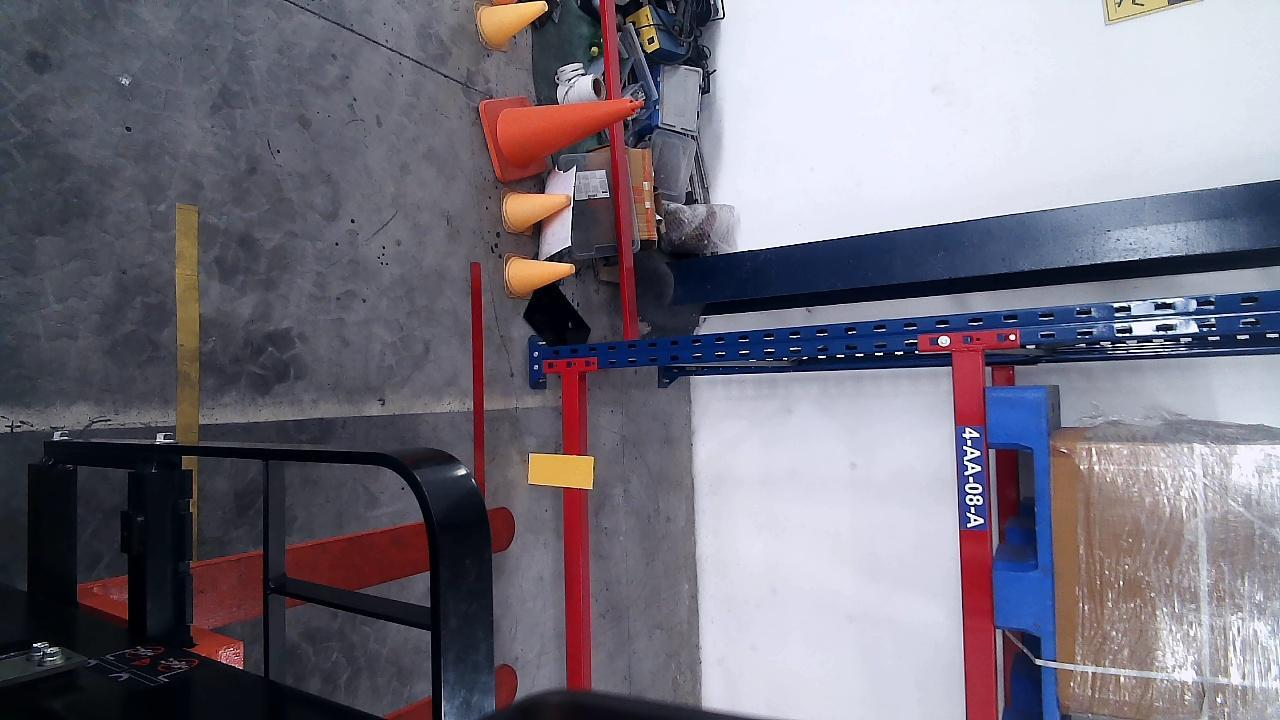h_rack: (952, 349, 998, 718), (560, 370, 594, 692)
orange_strip: (527, 454, 595, 489)
red_line: (471, 262, 487, 502)
small_pallet: (987, 386, 1060, 717)
yellow_line: (176, 204, 202, 442)
